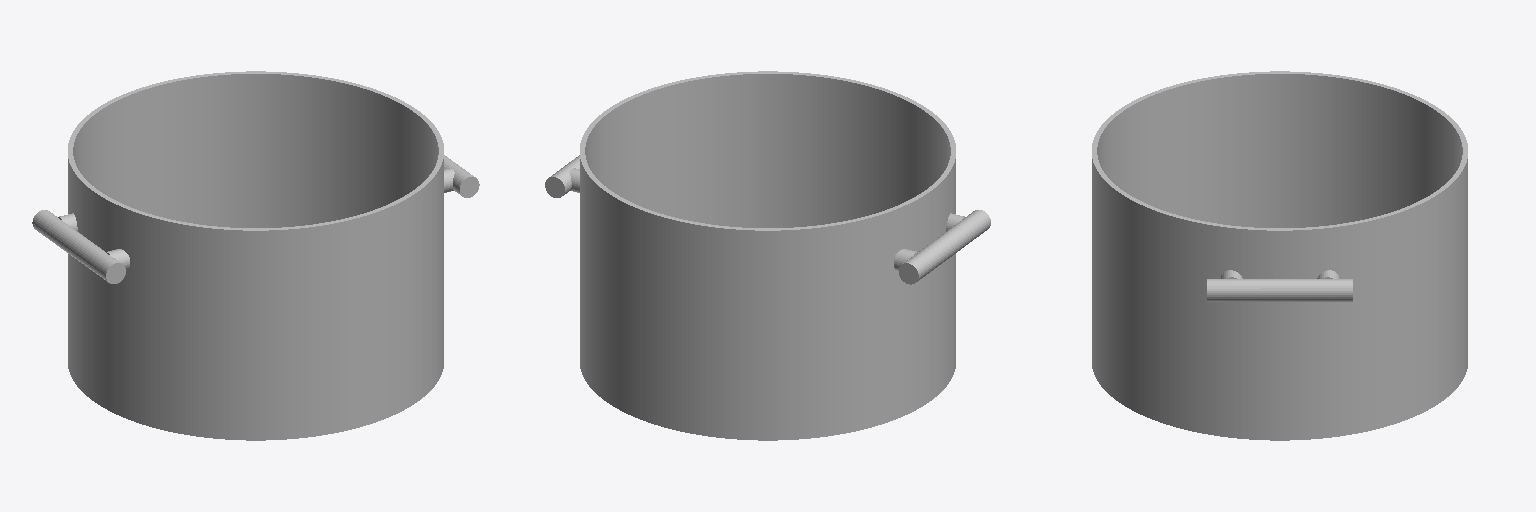
The model's file is Olla.obj.
3 views of the same model, side by side, from view 1: azimuth 30°, elevation 25°; view 2: azimuth 150°, elevation 25°; view 3: azimuth 270°, elevation 25° (orthographic).
Parts seen in each view (by area): view 1: Cylinder, Cylinder.003, Cylinder.004; view 2: Cylinder, Cylinder.003, Cylinder.004; view 3: Cylinder, Cylinder.004.
Boxes of the visible parts, x1=… form: Cylinder: x1=68, y1=71, x2=443, y2=440; Cylinder.003: x1=32, y1=210, x2=125, y2=283; Cylinder.004: x1=444, y1=155, x2=479, y2=197; Cylinder: x1=580, y1=71, x2=955, y2=440; Cylinder.003: x1=899, y1=210, x2=990, y2=284; Cylinder.004: x1=545, y1=155, x2=579, y2=197; Cylinder: x1=1092, y1=71, x2=1467, y2=440; Cylinder.004: x1=1207, y1=279, x2=1352, y2=301.
Size of the model in its own units: 2.28 by 1.22 by 1.99.